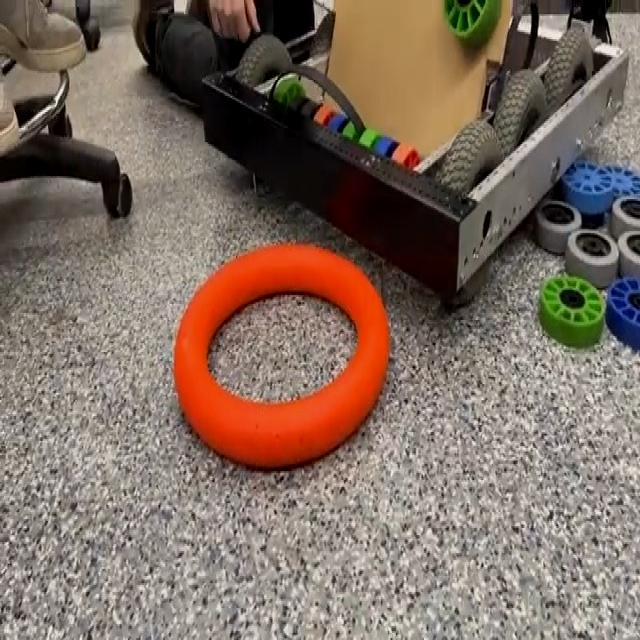note: (172, 237, 392, 473)
